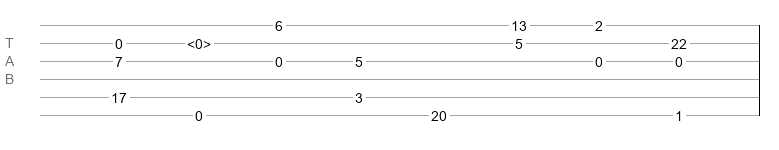0: (115, 36, 123, 46), (195, 108, 203, 118), (275, 54, 283, 64), (595, 54, 603, 64), (675, 54, 683, 64)
1: (675, 108, 683, 118)
13: (511, 18, 527, 28)
17: (111, 90, 127, 100)
2: (595, 18, 603, 28)
20: (431, 108, 447, 118)
22: (671, 36, 687, 46)
3: (355, 90, 363, 100)
5: (355, 54, 363, 64), (515, 36, 523, 46)
6: (275, 18, 283, 28)
7: (115, 54, 123, 64)
harmonic: (187, 36, 211, 46)
